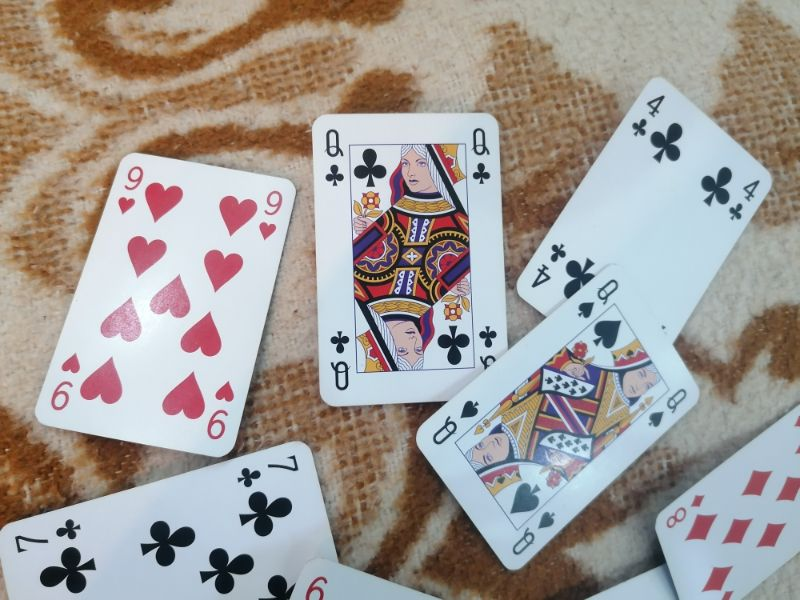4c: (526, 237, 568, 298), (628, 82, 667, 145), (726, 167, 764, 226)
7c: (10, 514, 89, 556), (236, 453, 303, 493)
8d: (659, 490, 710, 542)
9h: (47, 352, 83, 416), (206, 376, 238, 447), (114, 157, 149, 220), (256, 184, 287, 243)
Qc: (320, 323, 358, 396), (466, 122, 502, 188), (320, 122, 353, 192)
Qs: (511, 502, 559, 568), (430, 396, 483, 451), (574, 272, 625, 328), (643, 382, 690, 434)
